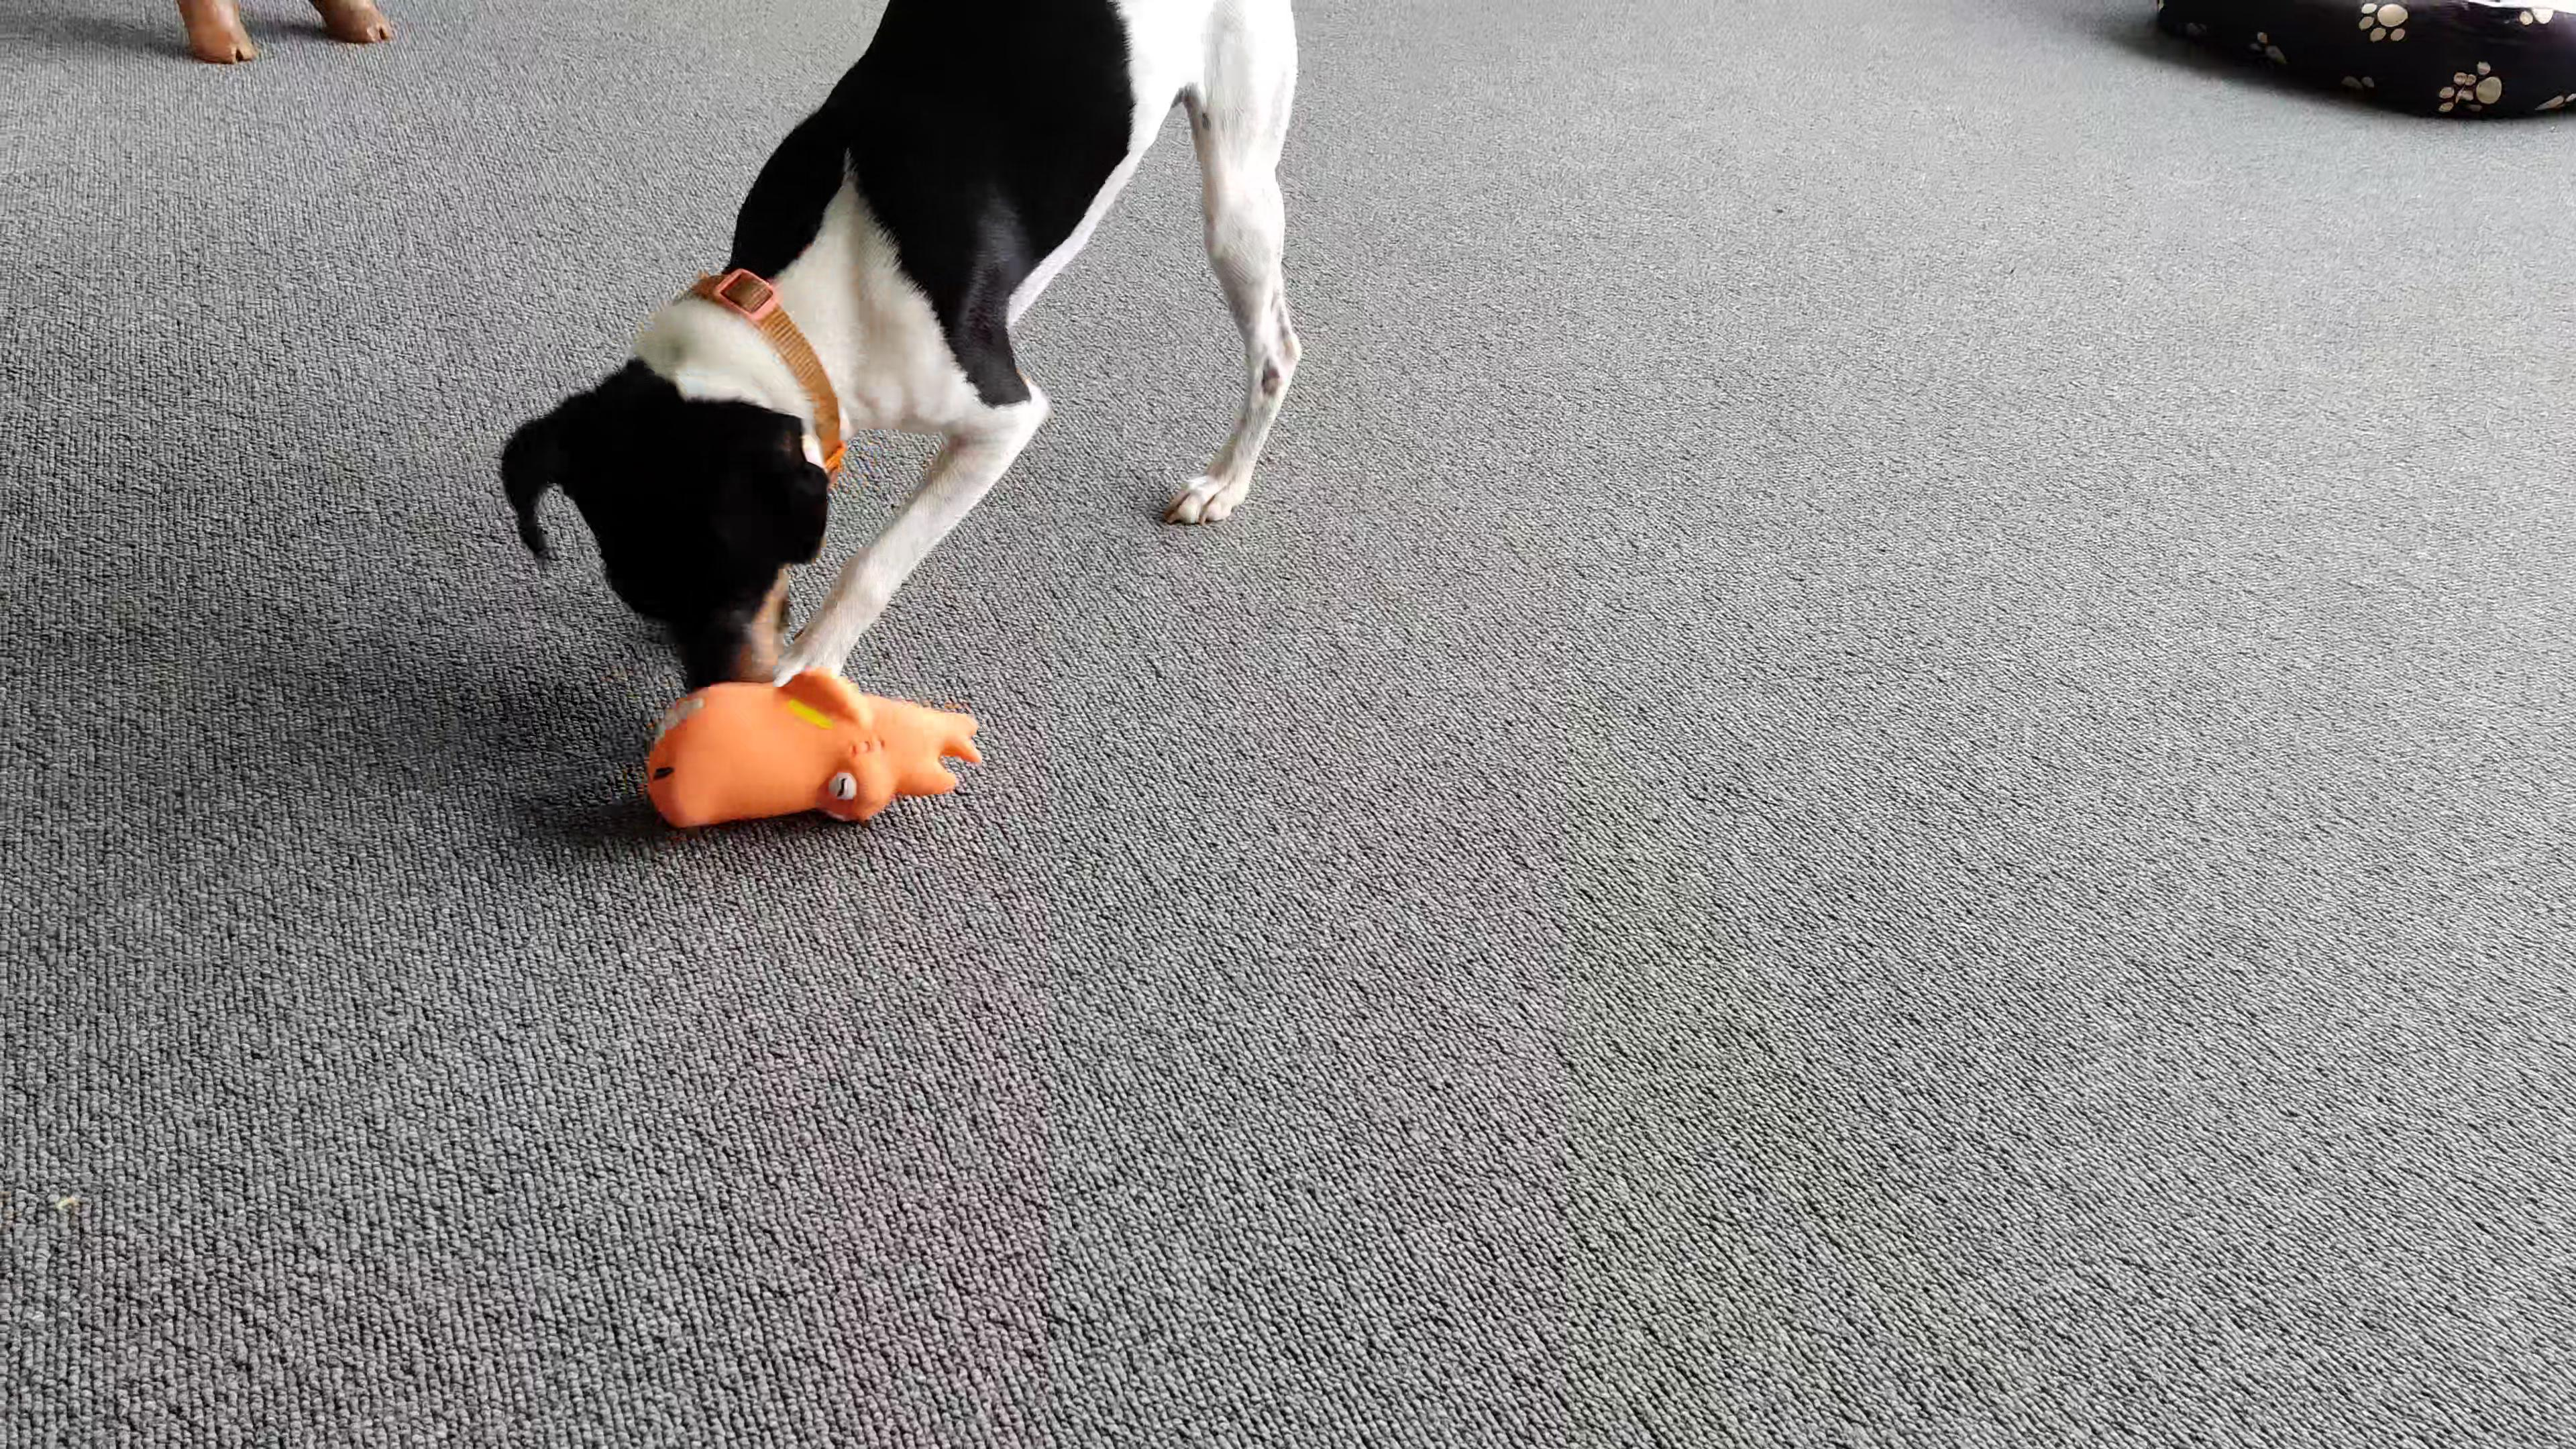Dog: (487, 0, 1313, 692)
